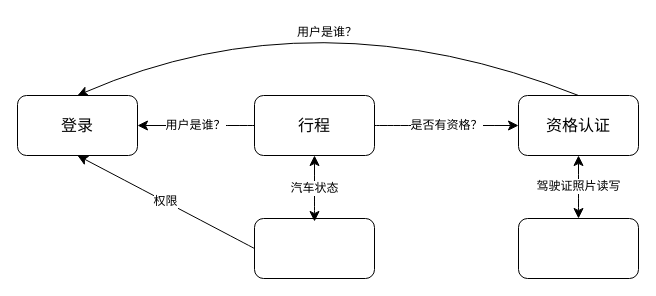
The diagram is 656 pixels wide and 296 high, and some of its shapes have lost their labels. Each missing label, with the box of its shape:
照片管理: (518, 218, 638, 278)
车辆管理: (254, 218, 374, 278)
